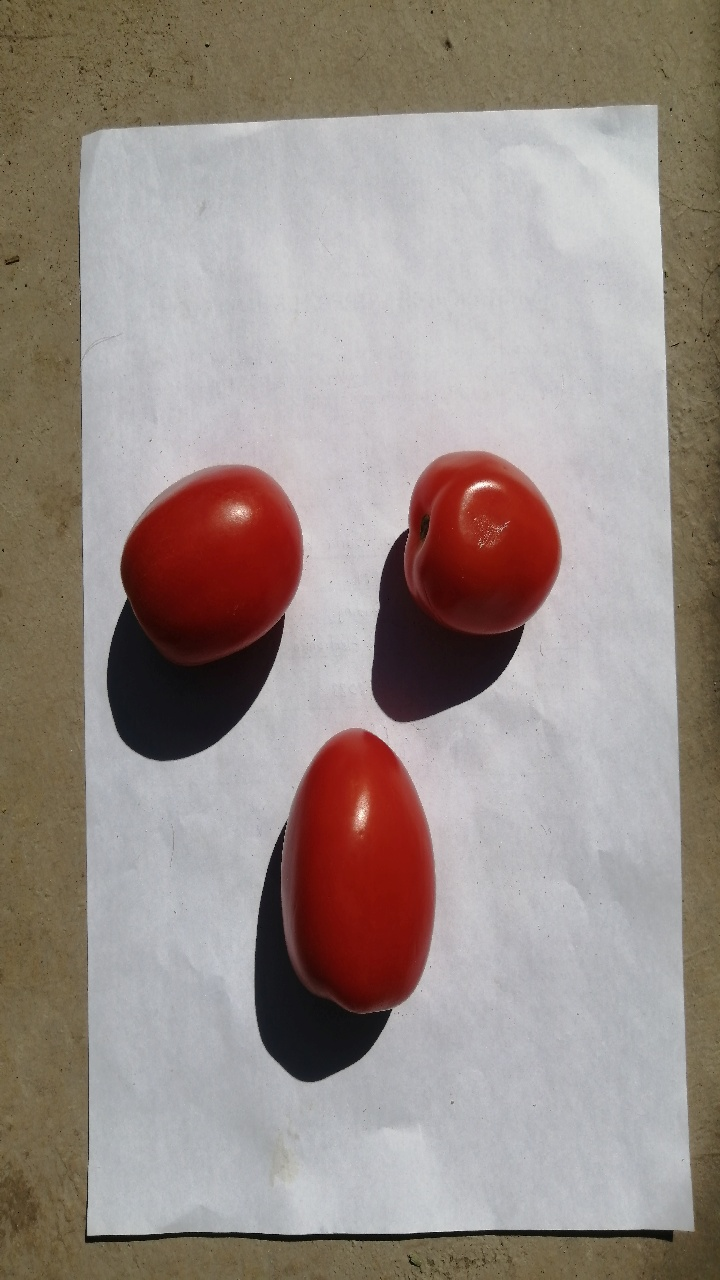tomateRojo: (249, 717, 478, 1045), (100, 440, 329, 695), (371, 422, 594, 683)
